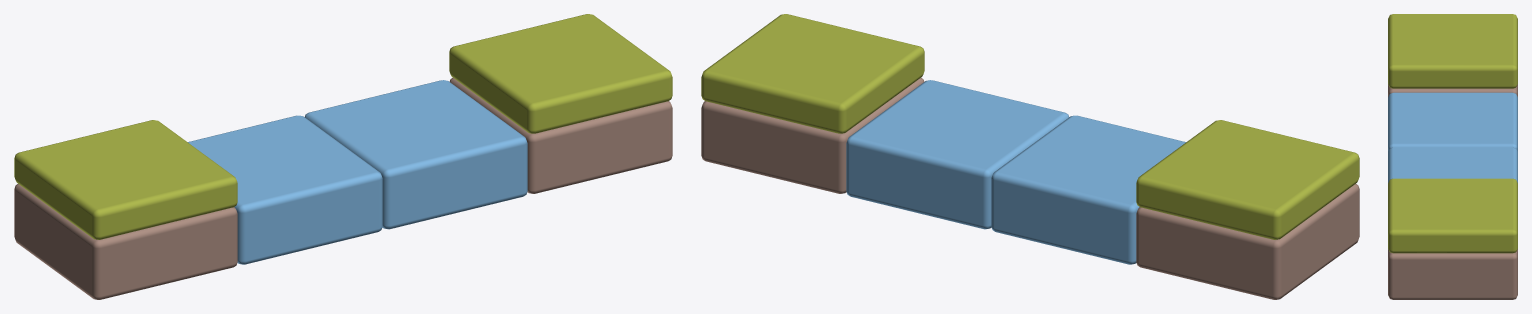
File: cube_with_river.06.glb
3 renders of one model, left to right at view 1: azimuth 30°, elevation 25°; view 2: azimuth 150°, elevation 25°; view 3: azimuth 270°, elevation 25°, orthographic. The views are drawn at different scales.
Visible parts, largest first — view 1: Cube.255; view 2: Cube.255; view 3: Cube.255.
Part boxes in pixels (x1=…): Cube.255: x1=14, y1=14, x2=672, y2=299; Cube.255: x1=701, y1=14, x2=1359, y2=299; Cube.255: x1=1388, y1=14, x2=1517, y2=299.
Size of the model in its own units: 4 by 0.6001 by 1.
1 material, 1 textured.
